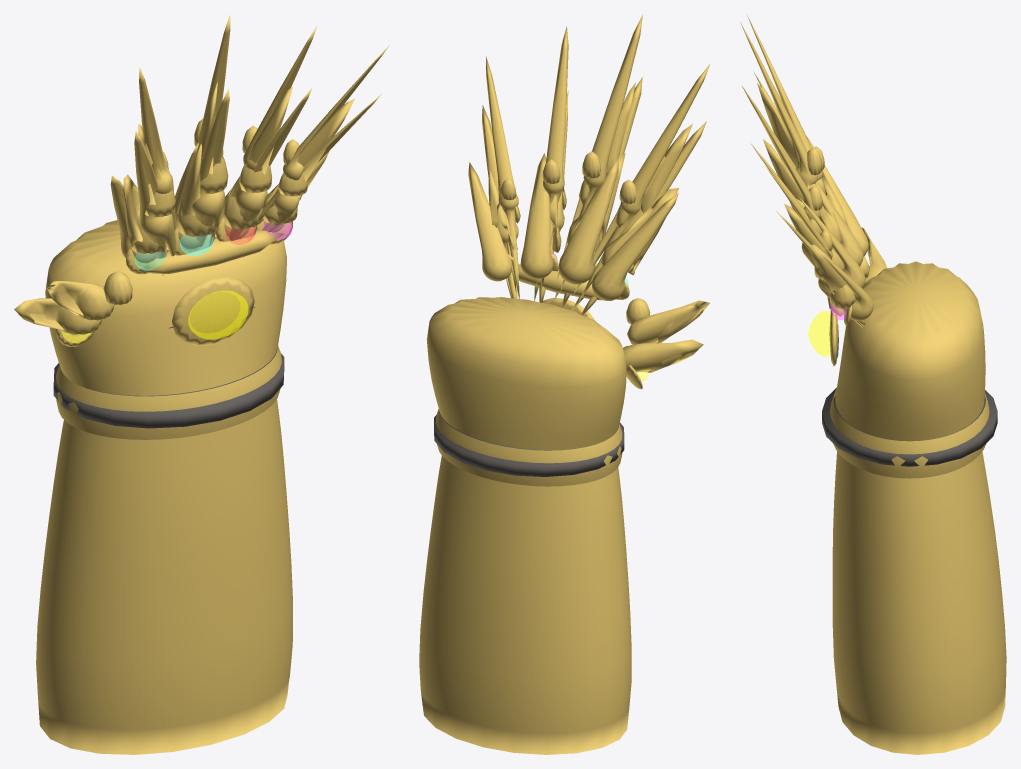
Rendered from manopla_thanos.glb.
The picture shows the model from 3 angles, left to right: view 1: azimuth 30°, elevation 25°; view 2: azimuth 150°, elevation 25°; view 3: azimuth 270°, elevation 25°; orthographic projection. The views are drawn at different scales.
Parts seen in each view (by area): view 1: Gauntlet_Forearm, Gauntlet_Hand_Body, Finger_Index, Gauntlet_Wrist_Cuff, Finger_Middle, Finger_Ring, Finger_Pinky, Finger_Thumb_MCU, Gauntlet_Wrist_JointTrim, Bezel_Mind, Gauntlet_Knuckle_Bar, Gem_Mind; view 2: Gauntlet_Forearm, Gauntlet_Hand_Body, Finger_Index, Finger_Middle, Finger_Pinky, Finger_Ring, Gauntlet_Wrist_Cuff, Finger_Thumb_MCU, Gauntlet_Wrist_JointTrim, Gauntlet_Knuckle_Bar; view 3: Gauntlet_Forearm, Gauntlet_Hand_Body, Gauntlet_Wrist_Cuff, Finger_Middle, Finger_Pinky, Finger_Ring, Gauntlet_Wrist_JointTrim, Finger_Index, Gem_Mind, Finger_Thumb_MCU.
Part boxes in pixels (bbox=[...]): Gauntlet_Forearm: bbox=[36, 399, 292, 754]; Gauntlet_Hand_Body: bbox=[45, 220, 286, 395]; Finger_Index: bbox=[110, 67, 178, 276]; Gauntlet_Wrist_Cuff: bbox=[56, 345, 281, 439]; Finger_Middle: bbox=[175, 15, 230, 249]; Finger_Ring: bbox=[215, 25, 317, 240]; Finger_Pinky: bbox=[243, 45, 389, 257]; Finger_Thumb_MCU: bbox=[14, 271, 132, 334]; Gauntlet_Wrist_JointTrim: bbox=[53, 349, 284, 428]; Bezel_Mind: bbox=[172, 276, 254, 345]; Gauntlet_Knuckle_Bar: bbox=[138, 230, 284, 273]; Gem_Mind: bbox=[188, 290, 248, 339]; Gauntlet_Forearm: bbox=[419, 455, 631, 754]; Gauntlet_Hand_Body: bbox=[426, 297, 626, 449]; Finger_Index: bbox=[571, 63, 710, 315]; Finger_Middle: bbox=[554, 14, 642, 307]; Finger_Pinky: bbox=[468, 56, 520, 298]; Finger_Ring: bbox=[520, 26, 568, 302]; Gauntlet_Wrist_Cuff: bbox=[435, 409, 622, 486]; Finger_Thumb_MCU: bbox=[623, 298, 709, 372]; Gauntlet_Wrist_JointTrim: bbox=[434, 412, 624, 476]; Gauntlet_Knuckle_Bar: bbox=[518, 264, 620, 300]; Gauntlet_Forearm: bbox=[832, 451, 1006, 754]; Gauntlet_Hand_Body: bbox=[835, 261, 985, 441]; Gauntlet_Wrist_Cuff: bbox=[830, 388, 989, 478]; Finger_Middle: bbox=[740, 22, 863, 266]; Finger_Pinky: bbox=[765, 166, 873, 327]; Finger_Ring: bbox=[744, 88, 865, 288]; Gauntlet_Wrist_JointTrim: bbox=[822, 387, 997, 466]; Finger_Index: bbox=[747, 15, 868, 256]; Gem_Mind: bbox=[808, 311, 830, 356]; Finger_Thumb_MCU: bbox=[860, 227, 887, 283].
Bounding box in the file's own units: 1.96 × 4.58 × 1.65.
